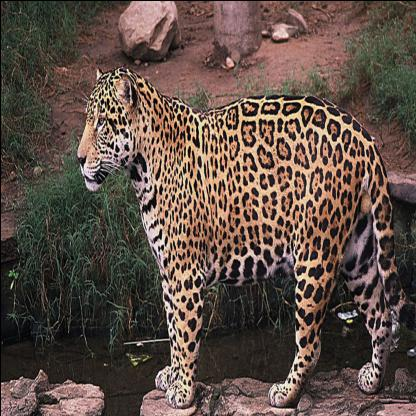leopard: (70, 64, 136, 198)
